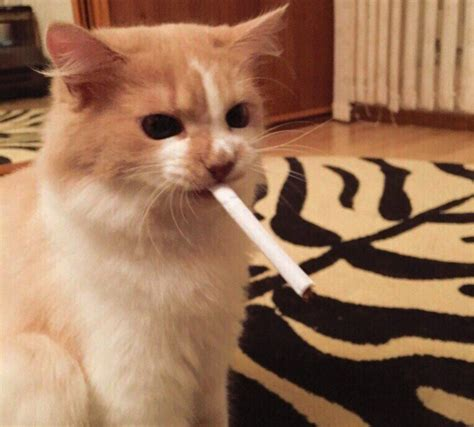cigarette: (211, 180, 315, 298)
